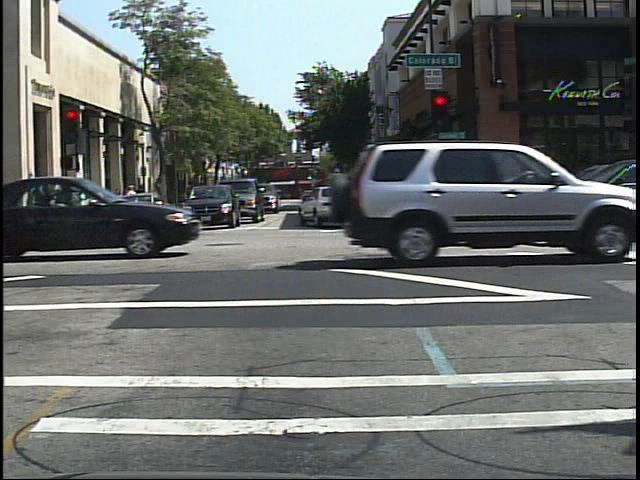person: (120, 181, 140, 225), (135, 181, 150, 218)
